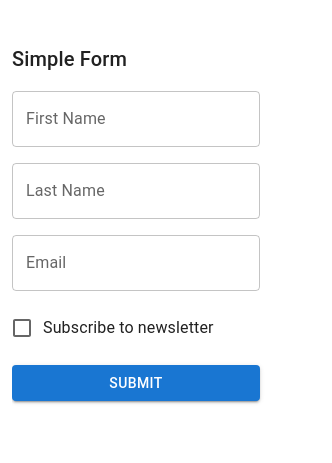
Test case: SimpleForm › displays validation error for invalid email format
Type "invalid-email" into the field labelled "Email" at (136, 263), box [12,235,260,291]
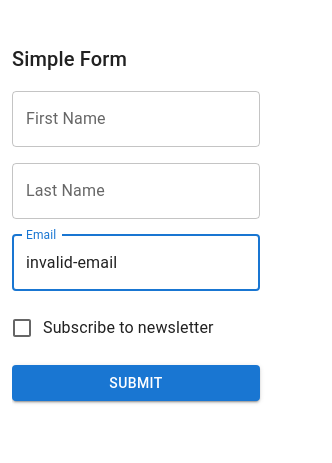
Click the button "Submit" at (136, 383), box [12,365,260,401]
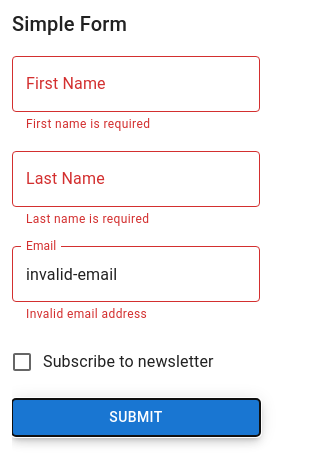
Expected: the text "Invalid email address" is shown, [26,307,147,321]
